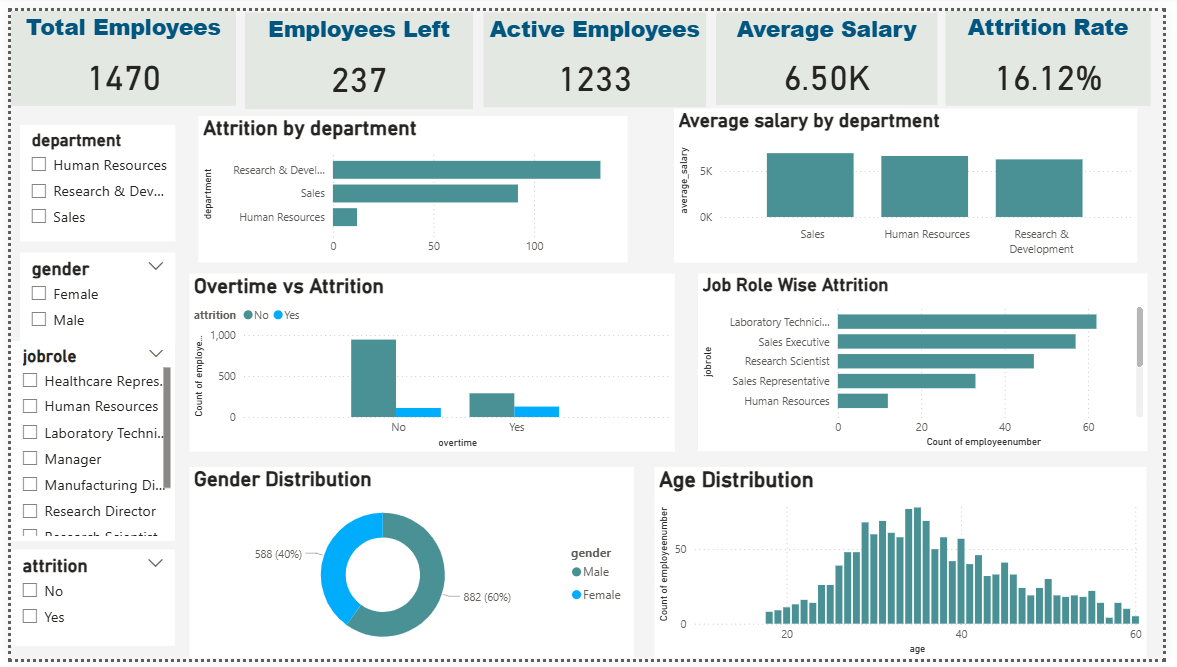

What the dashboard file says about the page in this screenshot:
{"tool":"powerbi","page":{"name":"Employee Summary","canvas":[1280,720],"ordinal":0},"visuals":[{"type":"card","title":"Total Employees","fields":{"Values":["hr_final_cleaned.total_employees"]},"box":[0,0,249.7,105.7],"z":0},{"type":"card","title":"Employees Left","fields":{"Values":["hr_final_cleaned.attrition_count"]},"box":[259.2,2.4,253.1,107.6],"z":1000},{"type":"card","title":"Active Employees","fields":{"Values":["hr_final_cleaned.active_employees"]},"box":[525.8,2.4,247,105.2],"z":2000},{"type":"card","title":"Average Salary","fields":{"Values":["hr_final_cleaned.average_salary"]},"box":[783.8,2.4,245.8,102.7],"z":3000},{"type":"card","title":"Attrition Rate","fields":{"Values":["hr_final_cleaned.attrition_rate"]},"box":[1038.8,0,227.8,105.7],"z":4000},{"type":"clusteredBarChart","title":"Attrition by department","fields":{"Category":["hr_final_cleaned.department"],"Y":["hr_final_cleaned.attrition_count"]},"box":[207.9,116.2,476.9,162.6],"z":5000},{"type":"clusteredColumnChart","title":"Average salary by department","fields":{"Category":["hr_final_cleaned.department"],"Y":["hr_final_cleaned.average_salary"]},"box":[737.4,107.6,514.8,171.2],"z":6000},{"type":"clusteredColumnChart","title":"Overtime vs Attrition","fields":{"Category":["hr_final_cleaned.overtime"],"Series":["hr_final_cleaned.attrition"],"Y":["CountNonNull(hr_final_cleaned.employeenumber)"]},"box":[198.1,292.3,539.3,198.1],"z":7000},{"type":"clusteredBarChart","title":"Job Role Wise Attrition","fields":{"Category":["hr_final_cleaned.jobrole"],"Y":["CountNonNull(hr_final_cleaned.employeenumber)"]},"box":[763,292.3,499.5,197.6],"z":8000},{"type":"donutChart","title":"Gender Distribution","fields":{"Category":["hr_final_cleaned.gender"],"Y":["CountNonNull(hr_final_cleaned.employeenumber)"]},"box":[198.1,507.5,494,212.8],"z":9000},{"type":"clusteredColumnChart","title":"Age Distribution","fields":{"Y":["CountNonNull(hr_final_cleaned.employeenumber)"],"Category":["hr_final_cleaned.age"]},"box":[715.4,507.5,546.6,212.8],"z":10000},{"type":"slicer","fields":{"Values":["hr_final_cleaned.department"]},"box":[9.8,126,172.4,129.6],"z":11000},{"type":"slicer","fields":{"Values":["hr_final_cleaned.gender"]},"box":[9.8,267.8,172.4,99],"z":12000},{"type":"slicer","fields":{"Values":["hr_final_cleaned.jobrole"]},"box":[0,366.8,182.2,221.3],"z":13000},{"type":"slicer","fields":{"Values":["hr_final_cleaned.attrition"]},"box":[0,598,182.2,107.6],"z":14000}]}

Visuals, with their boxes in screenshot pixels (x1, y1, x2, y2), scaled from the page's 1280x720 canvas onto the 1177x667 screenshot:
"Total Employees" card: {"x1": 0, "y1": 0, "x2": 230, "y2": 98}
"Employees Left" card: {"x1": 238, "y1": 2, "x2": 471, "y2": 102}
"Active Employees" card: {"x1": 483, "y1": 2, "x2": 711, "y2": 100}
"Average Salary" card: {"x1": 721, "y1": 2, "x2": 947, "y2": 97}
"Attrition Rate" card: {"x1": 955, "y1": 0, "x2": 1165, "y2": 98}
"Attrition by department" clusteredBarChart: {"x1": 191, "y1": 108, "x2": 630, "y2": 258}
"Average salary by department" clusteredColumnChart: {"x1": 678, "y1": 100, "x2": 1151, "y2": 258}
"Overtime vs Attrition" clusteredColumnChart: {"x1": 182, "y1": 271, "x2": 678, "y2": 454}
"Job Role Wise Attrition" clusteredBarChart: {"x1": 702, "y1": 271, "x2": 1161, "y2": 454}
"Gender Distribution" donutChart: {"x1": 182, "y1": 470, "x2": 636, "y2": 666}
"Age Distribution" clusteredColumnChart: {"x1": 658, "y1": 470, "x2": 1160, "y2": 666}
slicer - hr_final_cleaned.department: {"x1": 9, "y1": 117, "x2": 168, "y2": 237}
slicer - hr_final_cleaned.gender: {"x1": 9, "y1": 248, "x2": 168, "y2": 340}
slicer - hr_final_cleaned.jobrole: {"x1": 0, "y1": 340, "x2": 168, "y2": 545}
slicer - hr_final_cleaned.attrition: {"x1": 0, "y1": 554, "x2": 168, "y2": 654}
